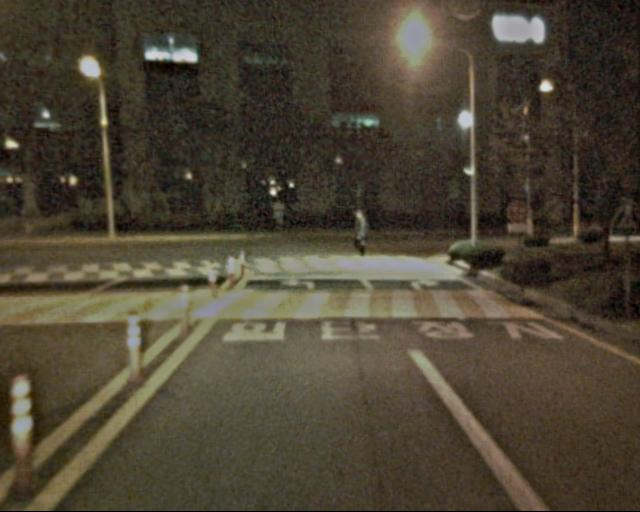person: (349, 209, 373, 268)
